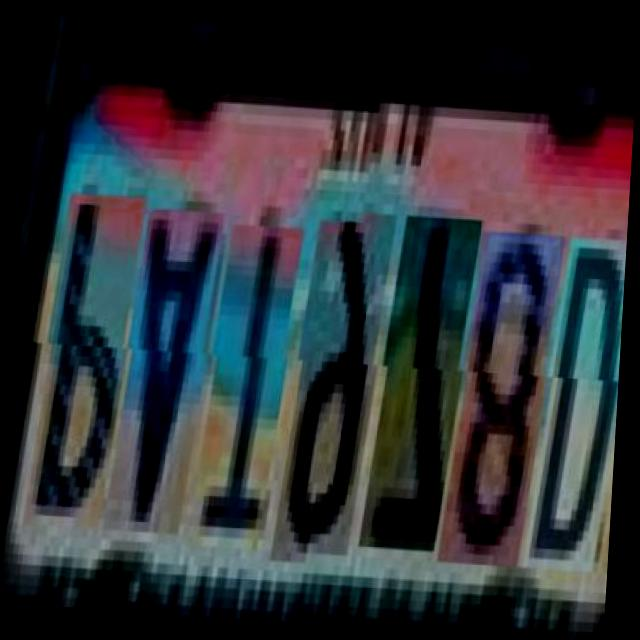7: (361, 208, 480, 546)
8: (440, 223, 564, 561)
9: (275, 205, 395, 552)
a: (107, 196, 224, 522)
d: (526, 228, 630, 563)
p: (27, 181, 146, 518)
t: (191, 211, 303, 537)
